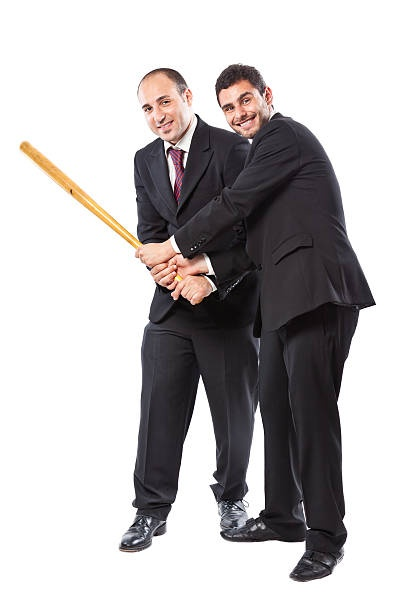bita: (21, 126, 169, 284)
